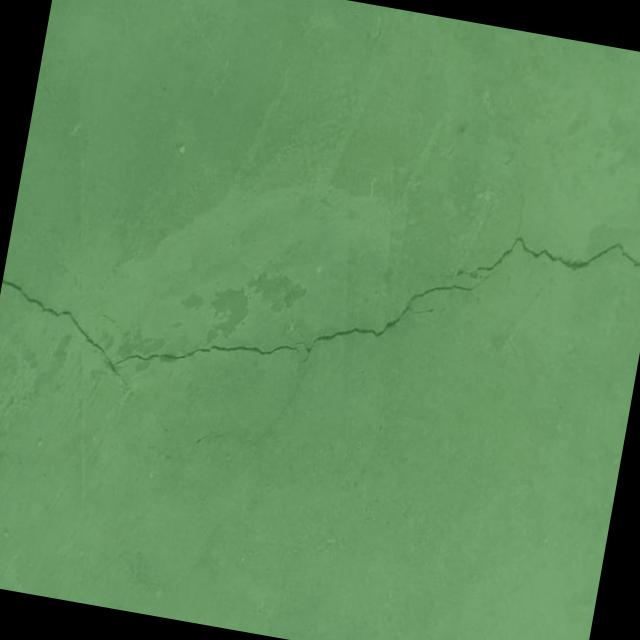crack: (0, 138, 640, 485), (164, 421, 229, 470), (252, 386, 296, 454), (510, 181, 528, 236), (145, 444, 160, 452)
